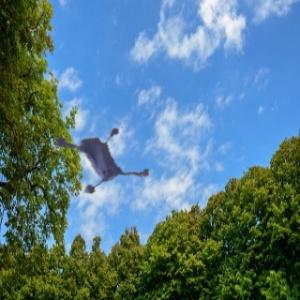drone: (33, 106, 142, 215)
